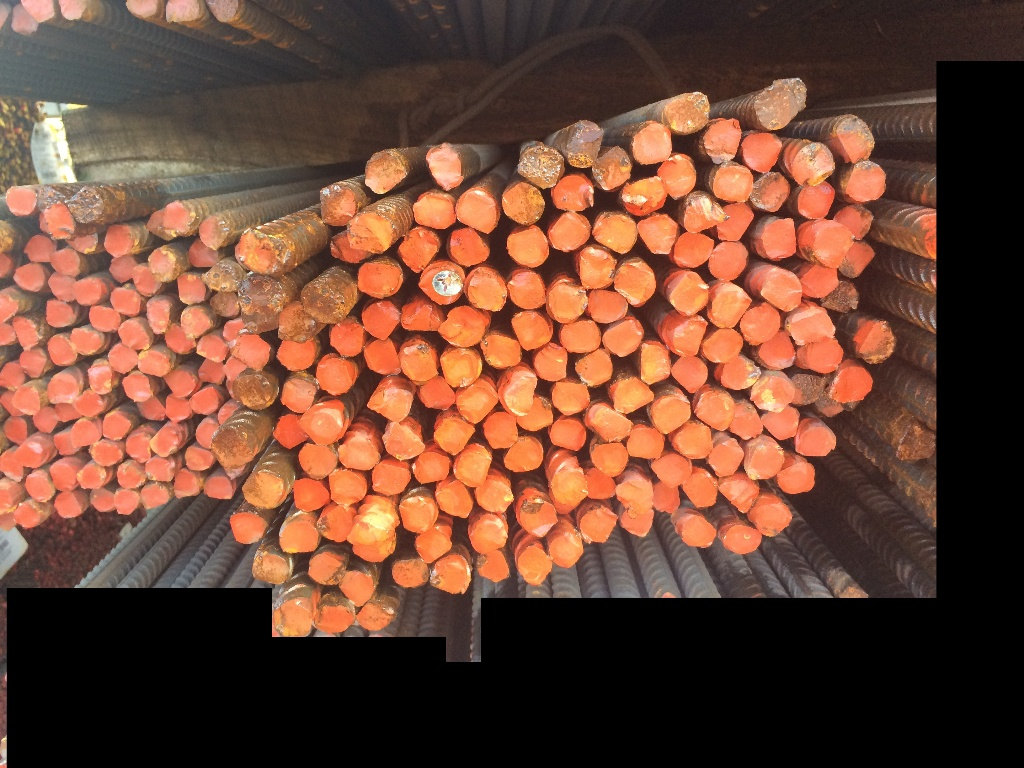dipstick: (582, 400, 634, 444), (348, 522, 401, 563), (238, 280, 287, 324), (238, 467, 290, 508), (664, 90, 711, 135), (853, 319, 897, 366), (571, 500, 620, 542), (368, 381, 420, 420), (636, 211, 681, 255), (347, 211, 395, 252), (301, 282, 342, 330), (212, 426, 256, 470), (443, 303, 486, 348), (300, 403, 345, 446), (693, 385, 738, 428), (703, 435, 748, 478), (801, 223, 848, 264), (646, 392, 694, 432), (454, 189, 499, 231), (594, 211, 639, 253), (432, 413, 477, 455), (467, 513, 512, 555), (516, 148, 563, 188), (316, 500, 359, 543), (739, 437, 784, 478), (431, 480, 482, 516), (379, 421, 427, 459), (420, 263, 464, 304), (513, 544, 557, 585), (501, 368, 540, 414), (232, 370, 279, 408), (613, 262, 656, 303), (424, 145, 464, 189), (635, 341, 675, 385), (316, 355, 360, 395), (411, 190, 456, 229), (760, 84, 796, 132), (453, 386, 501, 422), (894, 420, 935, 462), (574, 249, 617, 289), (441, 348, 484, 388), (672, 419, 715, 459), (464, 270, 510, 307), (723, 400, 764, 441), (238, 237, 286, 272), (367, 152, 407, 194), (835, 121, 875, 163), (709, 285, 749, 327), (774, 456, 816, 496), (412, 519, 452, 561), (761, 273, 804, 312), (674, 511, 720, 547), (545, 281, 586, 321), (398, 343, 439, 383), (511, 309, 552, 349), (669, 355, 710, 395), (566, 123, 605, 165), (501, 184, 543, 223), (507, 225, 549, 264), (547, 210, 590, 248), (586, 438, 629, 476), (749, 374, 794, 410), (275, 518, 320, 554), (827, 366, 873, 401), (648, 453, 694, 488), (359, 301, 399, 341), (516, 498, 557, 537), (312, 591, 354, 629), (326, 469, 369, 506), (367, 461, 412, 496), (785, 308, 834, 340), (357, 261, 403, 295), (741, 131, 781, 170), (657, 158, 697, 197), (483, 331, 523, 370), (712, 163, 753, 201), (761, 221, 797, 264), (303, 549, 346, 585), (447, 227, 486, 266), (670, 318, 709, 357), (532, 343, 572, 381), (545, 529, 585, 567), (431, 555, 469, 595), (844, 164, 885, 201), (668, 273, 709, 310), (742, 307, 783, 344), (291, 473, 332, 510), (471, 476, 513, 512), (229, 332, 272, 367), (549, 381, 593, 415), (607, 316, 645, 355), (711, 240, 748, 280), (503, 438, 543, 475), (620, 180, 661, 216), (720, 474, 761, 510), (548, 475, 589, 511), (295, 444, 339, 477), (400, 230, 437, 269), (563, 318, 603, 354), (683, 196, 724, 231), (453, 452, 494, 487), (412, 451, 455, 484), (715, 203, 752, 241), (400, 496, 438, 533), (702, 124, 741, 160), (762, 401, 801, 437), (797, 424, 836, 460), (631, 126, 671, 161), (720, 520, 761, 554), (624, 426, 665, 460), (703, 330, 745, 363), (357, 497, 400, 529), (509, 270, 546, 307), (363, 339, 400, 376), (483, 411, 520, 448), (593, 154, 632, 189), (614, 377, 653, 412), (575, 350, 614, 385), (683, 469, 717, 509), (279, 337, 320, 370), (755, 171, 790, 209), (802, 263, 840, 298), (339, 434, 377, 469), (252, 548, 290, 583), (581, 466, 620, 500), (791, 147, 831, 180), (753, 504, 792, 537), (229, 511, 268, 544), (87, 436, 128, 467), (761, 334, 797, 369), (789, 371, 825, 406), (279, 307, 316, 341), (549, 418, 586, 452), (338, 566, 375, 600), (322, 185, 360, 218), (674, 234, 712, 267), (282, 378, 320, 411), (480, 551, 518, 584), (401, 300, 442, 330), (329, 319, 364, 354), (617, 507, 656, 538), (419, 380, 459, 410), (799, 184, 834, 218), (809, 337, 843, 372), (275, 600, 309, 635), (200, 216, 233, 252), (553, 177, 591, 208), (392, 559, 430, 590), (848, 241, 877, 281), (275, 414, 309, 448), (22, 470, 56, 504), (649, 481, 683, 515), (44, 372, 80, 404), (13, 437, 49, 469), (617, 476, 653, 508), (719, 360, 758, 389), (71, 189, 104, 223), (519, 398, 553, 431), (775, 76, 807, 111), (353, 600, 393, 628), (208, 290, 245, 320), (68, 415, 101, 448), (823, 278, 857, 310), (151, 425, 183, 459), (589, 289, 624, 320), (149, 248, 179, 284), (202, 471, 236, 502), (196, 333, 231, 363), (73, 387, 108, 417), (143, 452, 178, 482), (164, 323, 196, 355), (70, 325, 102, 357), (42, 207, 75, 238), (121, 370, 154, 401), (168, 467, 201, 498), (88, 302, 122, 332), (49, 458, 79, 492), (125, 431, 155, 465), (332, 233, 364, 264), (46, 333, 77, 365), (101, 408, 132, 440), (75, 461, 107, 492), (53, 490, 84, 522), (140, 481, 171, 512), (119, 318, 151, 348), (46, 298, 79, 327), (1, 448, 30, 481), (19, 347, 50, 377), (837, 207, 870, 235), (23, 237, 58, 263), (180, 307, 211, 336), (139, 348, 168, 379), (110, 285, 142, 313), (88, 363, 116, 394), (193, 417, 221, 448), (189, 244, 221, 271), (145, 296, 169, 332), (106, 344, 139, 370), (16, 500, 42, 533), (165, 368, 195, 396), (53, 429, 83, 457), (116, 461, 146, 489), (161, 204, 192, 231), (178, 275, 209, 302), (136, 395, 167, 422), (816, 392, 849, 417), (8, 188, 36, 217), (112, 488, 142, 515), (12, 5, 38, 36), (190, 387, 221, 413), (207, 1, 247, 21), (3, 416, 30, 445), (105, 226, 131, 256), (14, 383, 39, 414), (108, 256, 137, 282), (15, 318, 41, 347), (32, 406, 61, 432), (76, 274, 101, 304), (198, 360, 229, 384), (164, 1, 201, 21), (58, 250, 84, 278), (165, 396, 194, 421), (23, 1, 54, 24), (1, 360, 26, 387), (14, 264, 46, 285), (147, 212, 174, 236), (52, 273, 76, 300), (127, 1, 161, 20), (1, 292, 19, 323), (183, 445, 214, 463), (58, 1, 85, 20), (224, 321, 249, 341), (1, 485, 20, 510), (55, 403, 78, 420), (1, 386, 16, 411), (220, 402, 238, 421), (1, 322, 16, 344), (1, 509, 20, 526), (1, 254, 12, 278)
